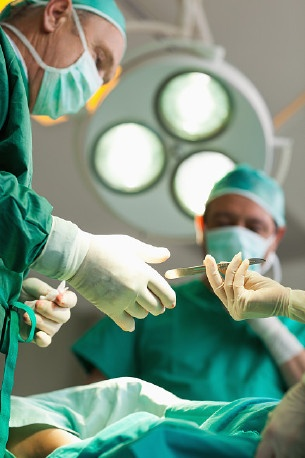Mask: (28, 17, 136, 125)
